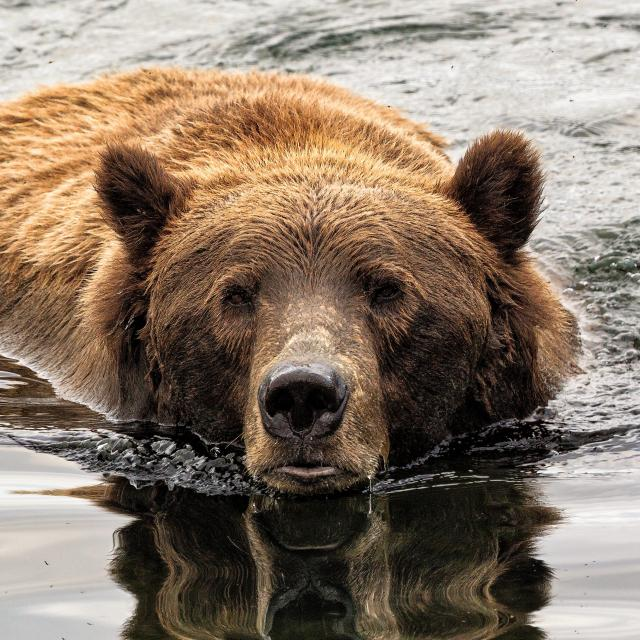Bear: (0, 66, 584, 640)
